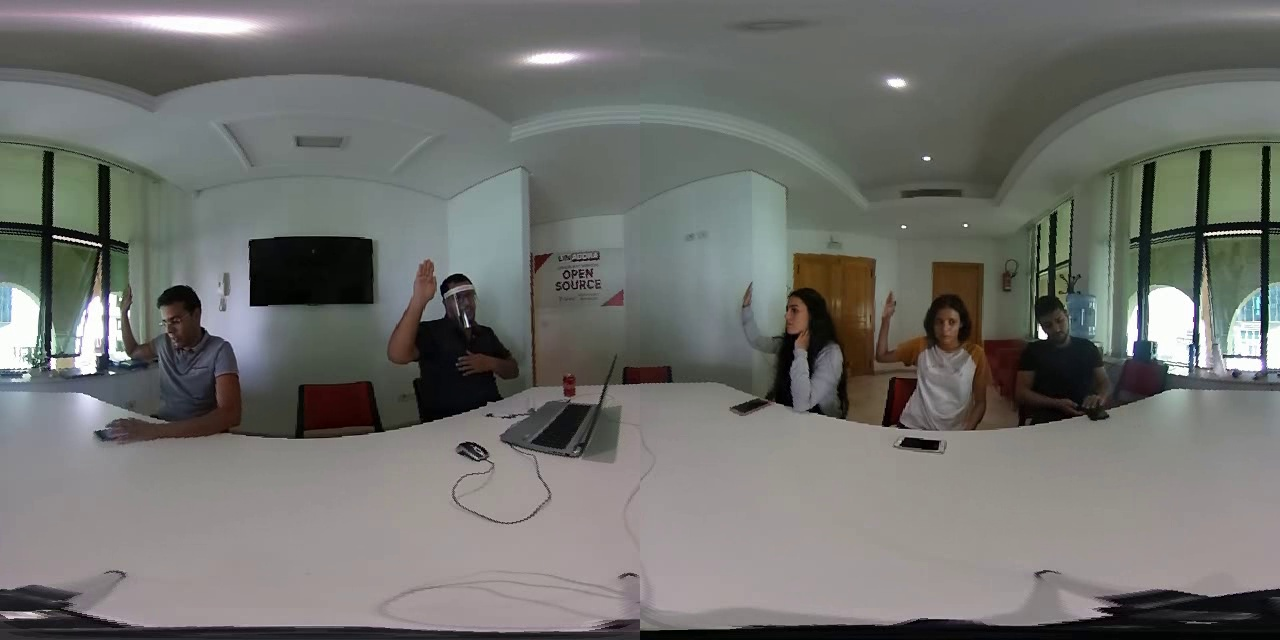person: (86, 273, 256, 445), (372, 247, 530, 398), (720, 272, 849, 421), (867, 284, 992, 431), (1013, 292, 1113, 431)
voting: (376, 259, 442, 361), (726, 276, 774, 359), (109, 283, 156, 365), (873, 285, 905, 378)
